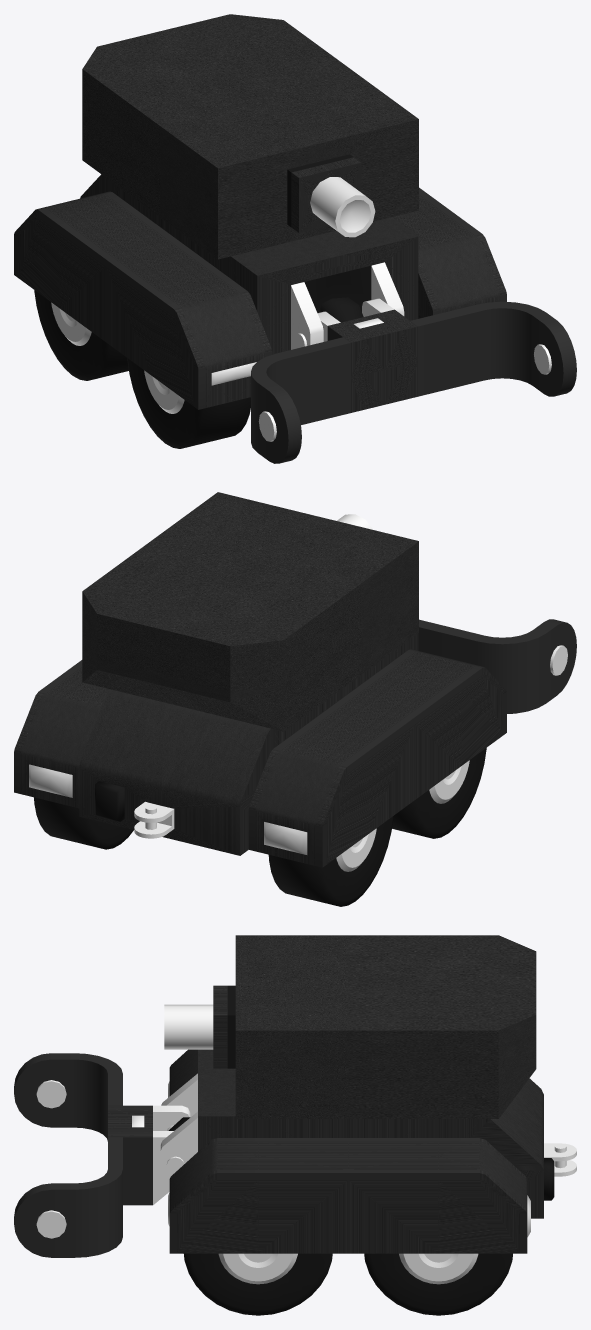
Rendered from robotank.dae.
3 views of the same model, one above another, from view 1: azimuth 30°, elevation 25°; view 2: azimuth 150°, elevation 25°; view 3: azimuth 270°, elevation 25° (orthographic). The views are drawn at different scales.
Parts seen in each view (by area): view 1: robotank_chassis_turret, robotank_chassis_fenders, robotank_chassis_plow, robotank_chassis_main, robotank_wheel.004, robotank_wheel.001; view 2: robotank_chassis_turret, robotank_chassis_fenders, robotank_chassis_main, robotank_chassis_plow, robotank_wheel.001, robotank_wheel.004, robotank_wheel.003; view 3: robotank_chassis_turret, robotank_chassis_fenders, robotank_chassis_plow, robotank_chassis_main, robotank_wheel.003, robotank_wheel.002.
Part boxes in pixels (box(x1,y1,x2,y2)): robotank_chassis_turret: box(82, 14, 418, 259); robotank_chassis_fenders: box(14, 187, 506, 409); robotank_chassis_plow: box(251, 297, 576, 463); robotank_chassis_main: box(80, 174, 418, 354); robotank_wheel.004: box(127, 358, 250, 448); robotank_wheel.001: box(34, 290, 128, 380); robotank_chassis_turret: box(82, 492, 418, 731); robotank_chassis_fenders: box(14, 649, 506, 867); robotank_chassis_main: box(79, 633, 418, 855); robotank_chassis_plow: box(418, 619, 576, 713); robotank_wheel.001: box(268, 816, 393, 906); robotank_wheel.004: box(392, 748, 486, 838); robotank_wheel.003: box(34, 797, 133, 849); robotank_chassis_turret: box(164, 935, 536, 1118); robotank_chassis_fenders: box(168, 1049, 530, 1253); robotank_chassis_plow: box(14, 1053, 190, 1257); robotank_chassis_main: box(160, 1049, 576, 1218); robotank_wheel.003: box(364, 1253, 512, 1315); robotank_wheel.002: box(184, 1253, 332, 1315).
Size of the model in its own units: 0.92 by 1.5 by 0.78.
